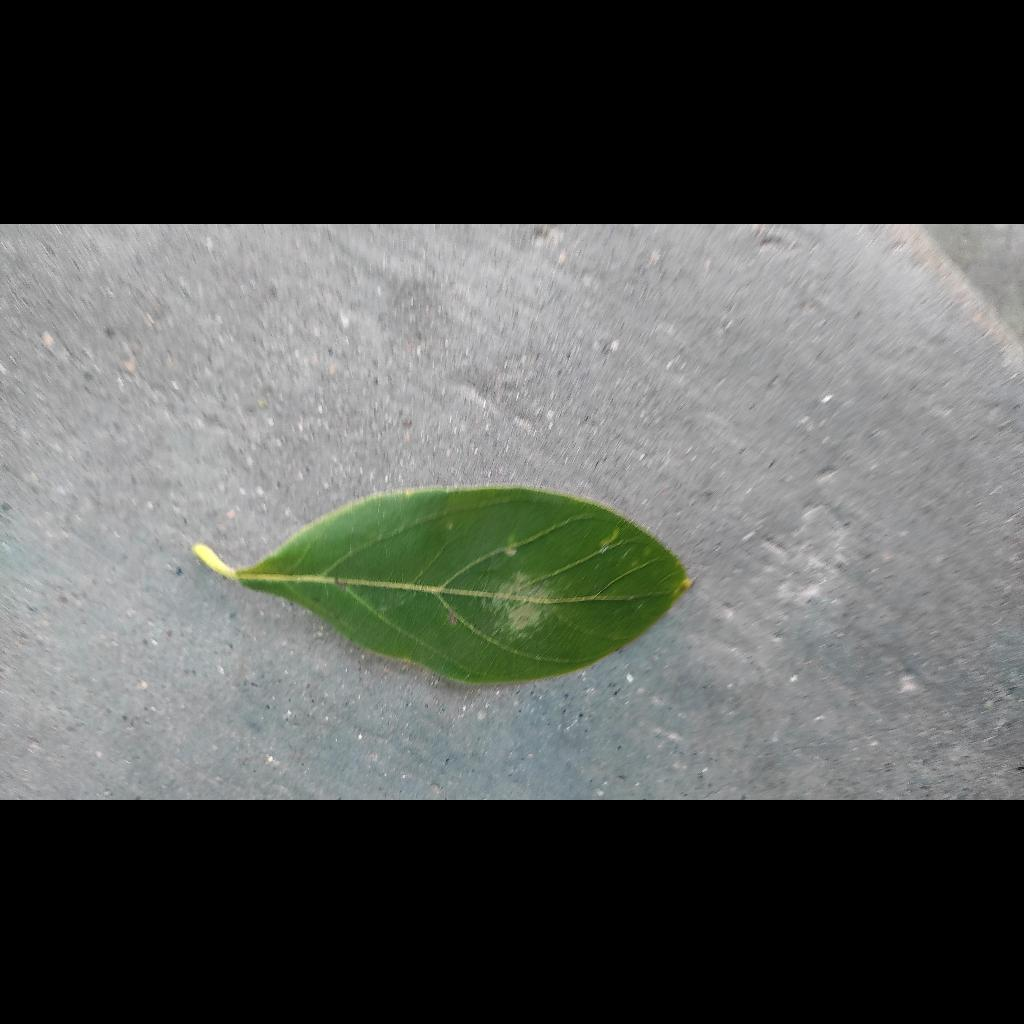hoja_sana: (334, 341, 830, 536)
